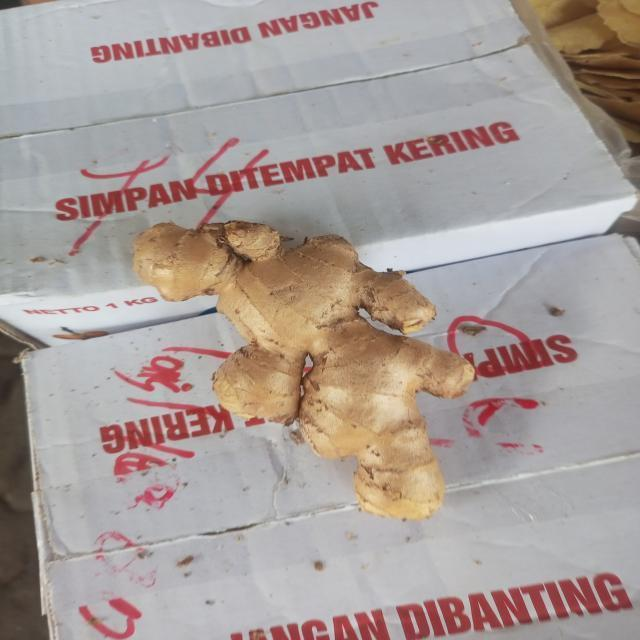ginger: (134, 214, 478, 524)
